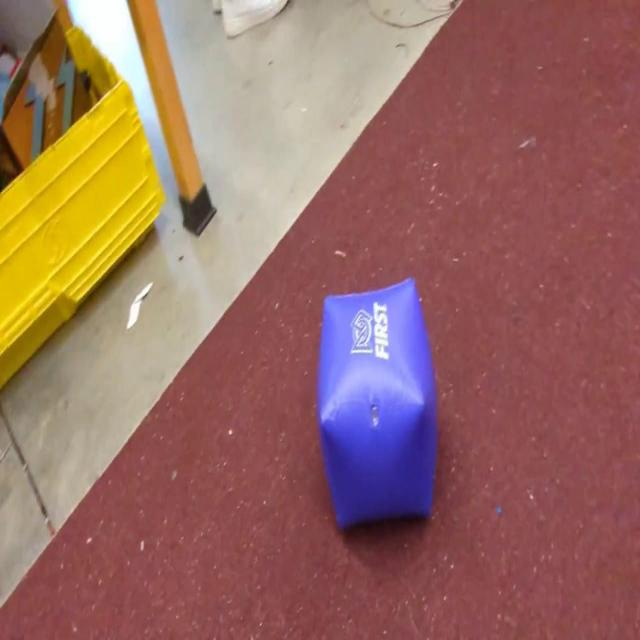frc_cube: (314, 278, 437, 550)
